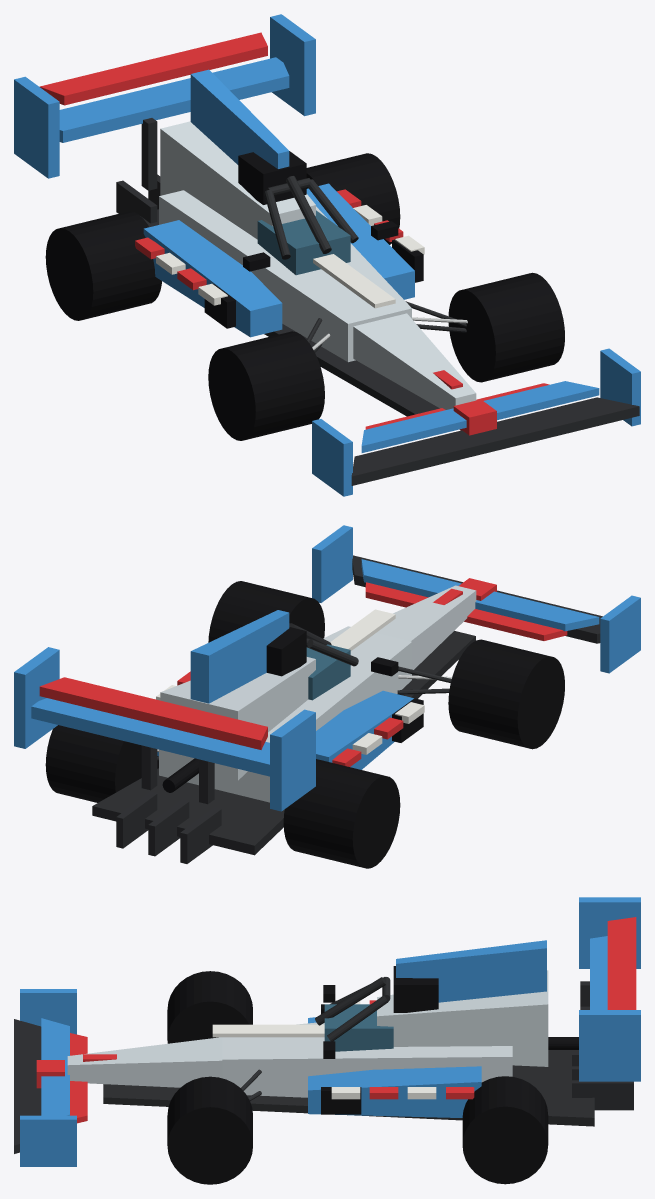
The model's file is light_blue_racer.glb.
3 views of the same model, one above another, from view 1: azimuth 30°, elevation 25°; view 2: azimuth 150°, elevation 25°; view 3: azimuth 270°, elevation 25° (orthographic). The views are drawn at different scales.
Parts seen in each view (by area): view 1: Main_Monocoque, BlueF1_Tire_-1_1.28, BlueF1_Tire_1_1.28, BlueF1_Tire_-1_-1.2, Front_Wing_Mainplane, Engine_Cover, Rear_Wing_Mainplane, Left_Sidepod, Long_Nose_Cone, Rear_Wing_Top_Flap, Shark_Fin, Front_Wing_Upper_Flap (+17 smaller); view 2: BlueF1_Tire_-1_1.28, BlueF1_Tire_-1_-1.2, Carbon_Floor, Main_Monocoque, Rear_Wing_Mainplane, BlueF1_Tire_1_-1.2, Rear_Wing_Top_Flap, Engine_Cover, Shark_Fin, Front_Wing_Upper_Flap, BlueF1_Tire_1_1.28, Rear_Left_Endplate (+18 smaller); view 3: Main_Monocoque, Engine_Cover, BlueF1_Tire_1_1.28, BlueF1_Tire_1_-1.2, Shark_Fin, Carbon_Floor, Right_Sidepod, Long_Nose_Cone, BlueF1_Tire_-1_1.28, Rear_Right_Endplate, Front_Right_Endplate, Rear_Wing_Top_Flap (+14 smaller).
Boxes of the visible parts, left/top/right/bottom form: Main_Monocoque: left=159, top=190, right=411, bottom=362; BlueF1_Tire_-1_1.28: left=208, top=331, right=324, bottom=440; BlueF1_Tire_1_1.28: left=448, top=272, right=564, bottom=382; BlueF1_Tire_-1_-1.2: left=45, top=211, right=161, bottom=320; Front_Wing_Mainplane: left=351, top=397, right=639, bottom=485; Engine_Cover: left=160, top=121, right=315, bottom=239; Rear_Wing_Mainplane: left=59, top=57, right=289, bottom=142; Left_Sidepod: left=143, top=220, right=282, bottom=337; Long_Nose_Cone: left=353, top=313, right=476, bottom=409; Rear_Wing_Top_Flap: left=39, top=32, right=267, bottom=105; Shark_Fin: left=190, top=69, right=289, bottom=168; Front_Wing_Upper_Flap: left=361, top=381, right=599, bottom=452; BlueF1_Tire_-1_1.28: left=448, top=639, right=564, bottom=749; BlueF1_Tire_-1_-1.2: left=283, top=759, right=400, bottom=868; Carbon_Floor: left=92, top=631, right=475, bottom=855; Main_Monocoque: left=159, top=626, right=411, bottom=802; Rear_Wing_Mainplane: left=31, top=698, right=269, bottom=776; BlueF1_Tire_1_-1.2: left=45, top=725, right=158, bottom=802; Rear_Wing_Top_Flap: left=39, top=677, right=267, bottom=749; Engine_Cover: left=160, top=657, right=315, bottom=780; Shark_Fin: left=190, top=610, right=289, bottom=703; Front_Wing_Upper_Flap: left=361, top=559, right=599, bottom=631; BlueF1_Tire_1_1.28: left=208, top=581, right=324, bottom=642; Rear_Left_Endplate: left=270, top=709, right=315, bottom=811; Main_Monocoque: left=222, top=1022, right=512, bottom=1097; Engine_Cover: left=377, top=970, right=548, bottom=1066; BlueF1_Tire_1_1.28: left=167, top=1076, right=252, bottom=1184; BlueF1_Tire_1_-1.2: left=462, top=1076, right=548, bottom=1184; Shark_Fin: left=396, top=940, right=546, bottom=1002; Carbon_Floor: left=103, top=1050, right=594, bottom=1126; Right_Sidepod: left=308, top=1066, right=481, bottom=1117; Long_Nose_Cone: left=67, top=1037, right=222, bottom=1087; BlueF1_Tire_-1_1.28: left=167, top=971, right=252, bottom=1043; Rear_Right_Endplate: left=579, top=1010, right=640, bottom=1081; Front_Right_Endplate: left=20, top=1115, right=76, bottom=1166; Rear_Wing_Top_Flap: left=607, top=917, right=636, bottom=1009.
Bounding box in the file's own units: 2.71 × 1.6 × 5.27.
